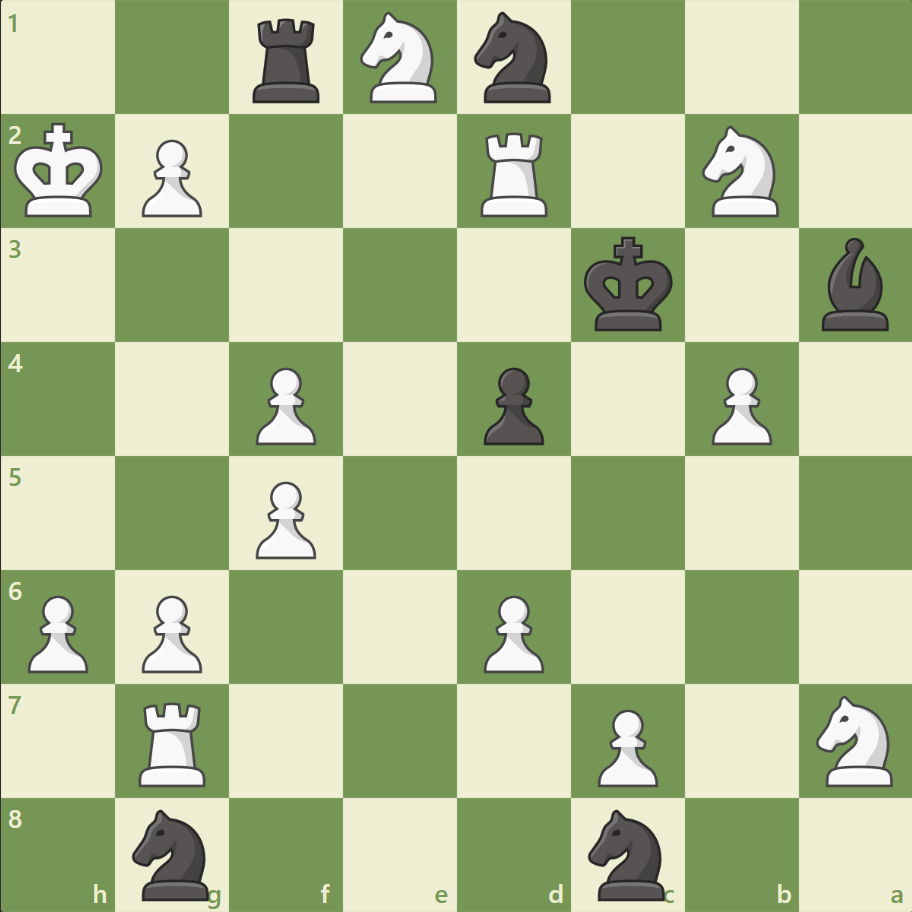K: (11, 117, 111, 225)
N: (351, 7, 449, 110), (806, 688, 903, 791), (692, 121, 789, 223)
P: (474, 586, 549, 677), (133, 586, 208, 677), (20, 586, 95, 677), (247, 473, 322, 564), (701, 359, 776, 450), (247, 359, 322, 450), (133, 132, 208, 223), (588, 700, 662, 791)
R: (473, 125, 556, 222), (133, 693, 215, 790)
b: (812, 233, 896, 336)
k: (579, 231, 679, 339)
n: (124, 802, 222, 904), (465, 7, 562, 110), (579, 802, 676, 904)
p: (474, 359, 549, 450)
r: (246, 12, 329, 109)
